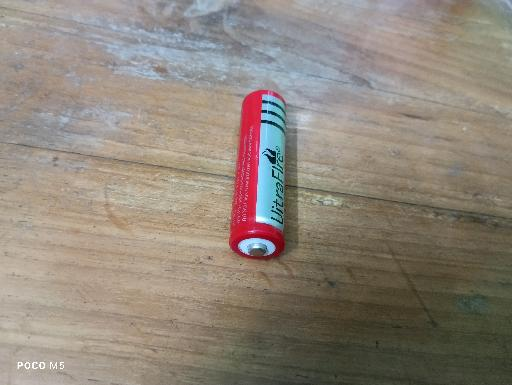Battery: (229, 90, 287, 259)
